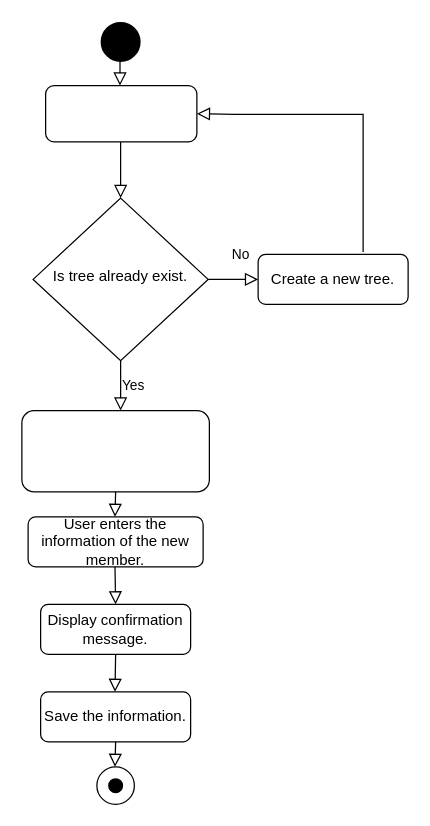
This 430x826 diagram has some shape labels left out. Each missing label, with the centre of its shape:
"User choses the member node that he or she wanted to add new member." goes at [115,450].
"User choses the tree that he or she wants to add member" goes at [120,113].
